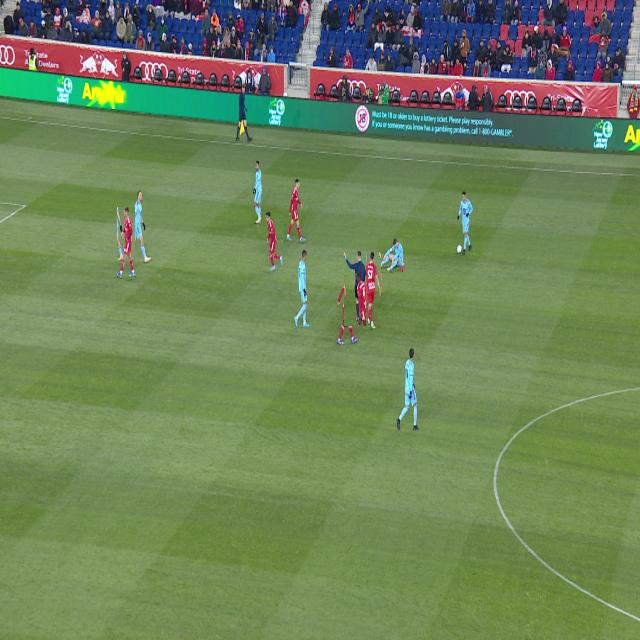football: (457, 244, 462, 253)
player: (397, 348, 420, 430), (128, 191, 151, 263), (337, 271, 358, 345), (364, 253, 381, 329), (117, 208, 135, 279), (294, 250, 310, 327), (287, 179, 306, 242), (266, 212, 283, 271), (458, 192, 473, 255), (379, 239, 403, 272), (253, 162, 262, 223)
referee: (344, 252, 366, 326)
